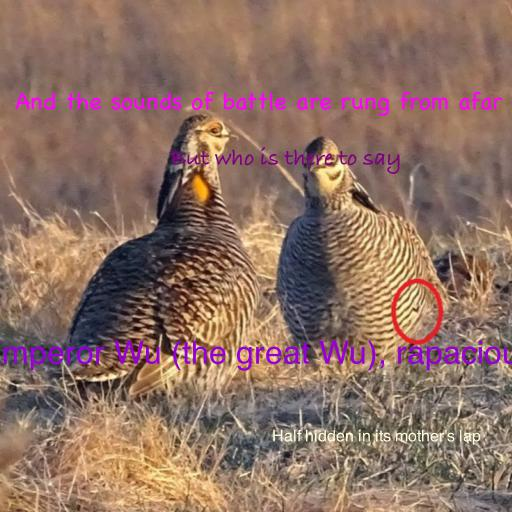Bradley Hand: (170, 147, 402, 174)
Chalkboard: (14, 91, 502, 117)
Helvetica: (0, 340, 512, 371)
Impact: (271, 429, 481, 445)
